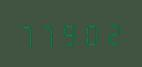nine: (60, 20, 80, 46)
seven: (18, 20, 38, 47), (39, 20, 59, 47)
two: (102, 19, 122, 46)
zero: (81, 19, 101, 46)
